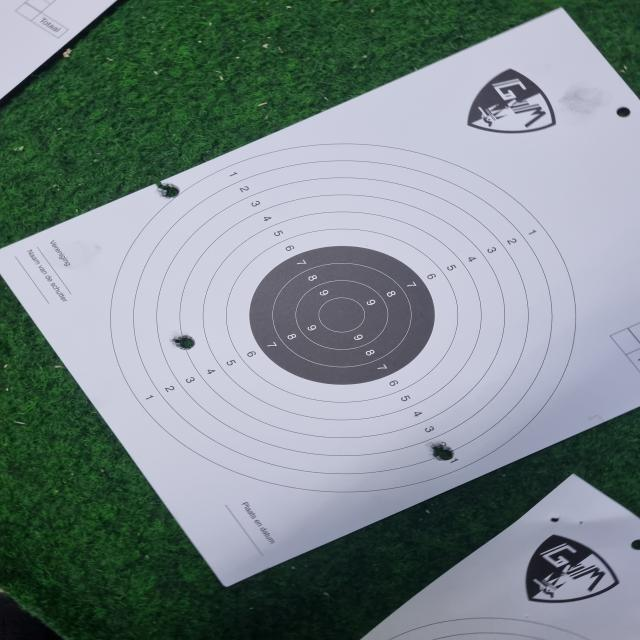0: (157, 183, 180, 199)
2: (430, 443, 454, 461)
4: (172, 335, 196, 350)
Target: (107, 144, 576, 493)
black_contour: (250, 246, 435, 386)
